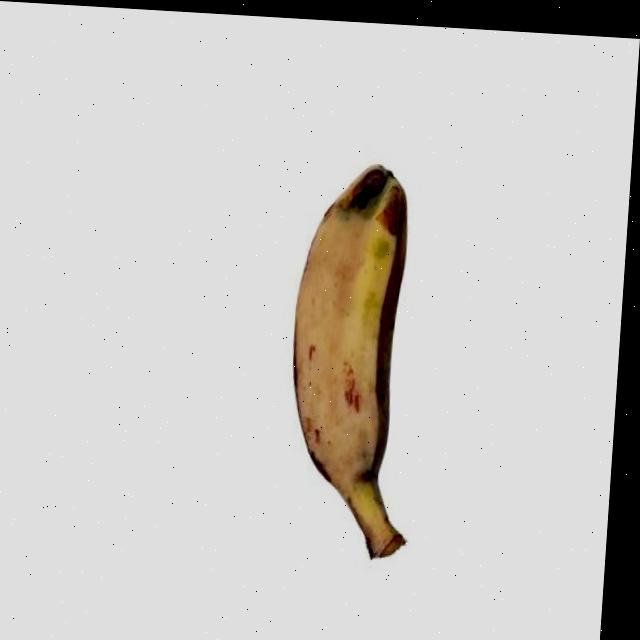banana: (269, 155, 435, 567)
